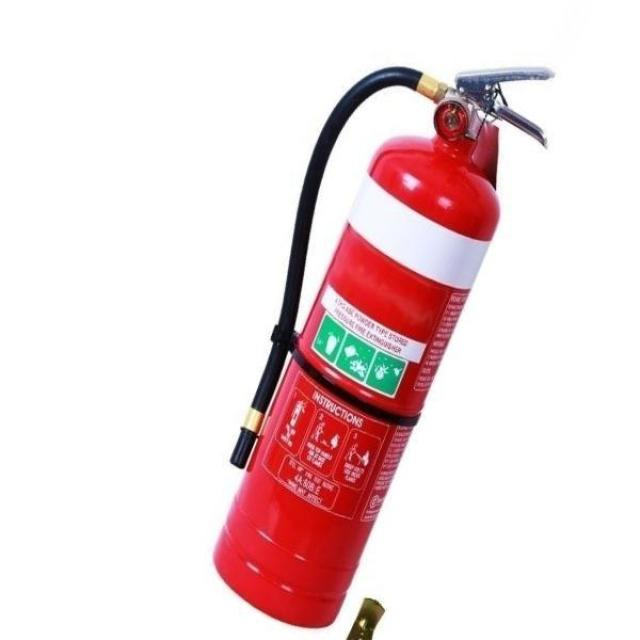fire_extinguisher: (204, 58, 561, 632)
